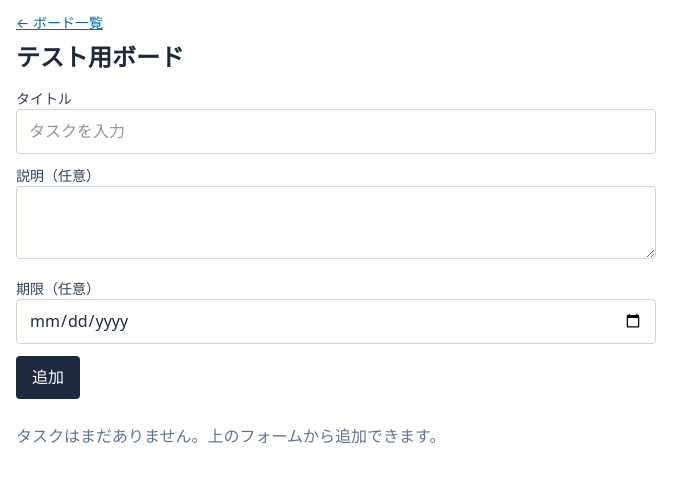
Test: 新規タスクのバリデーション › 一度出たエラーは、直したら消える
Expected: the heading "テスト用ボード" is shown, [16, 40, 184, 73]
Click the button "追加" at (48, 378), box [16, 356, 80, 399]
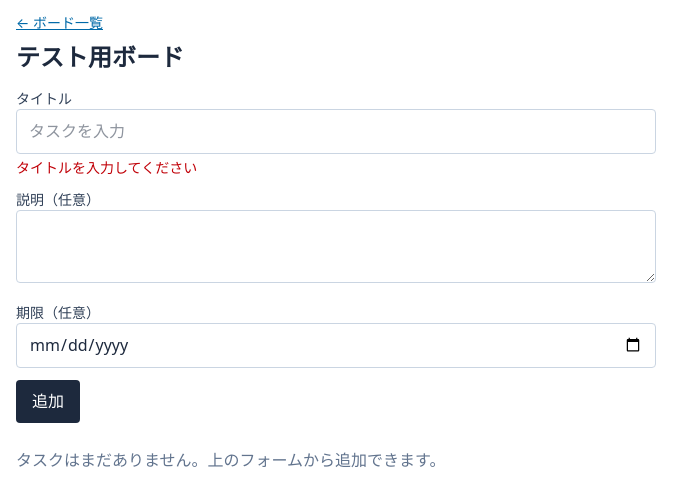
Result: the text "タイトルを入力してください" is shown at [16, 158, 197, 177]
Type "直した" into the field labelled "タイトル" at (336, 132), box [16, 109, 656, 154]
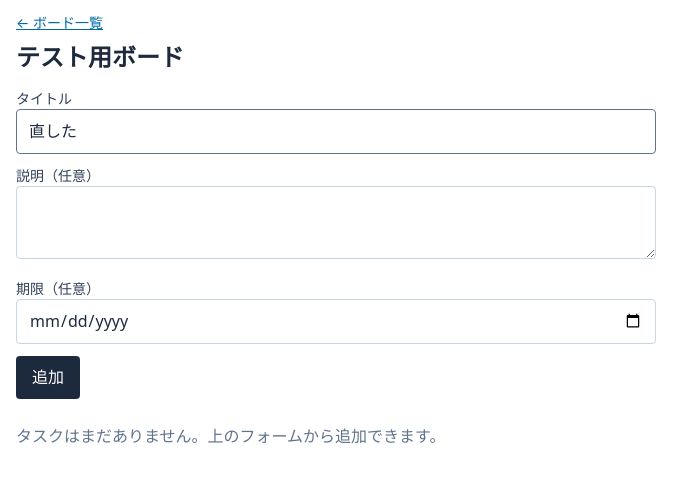
Result: the text "タイトルを入力してください" is gone
